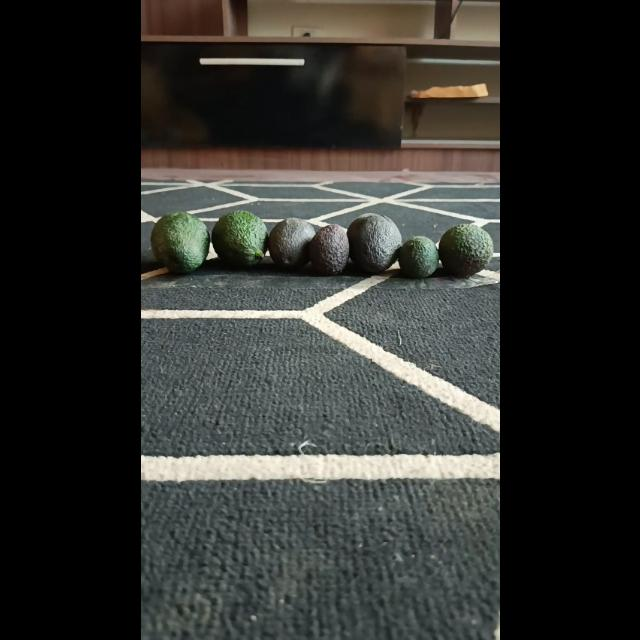Primera: (149, 211, 209, 273), (210, 210, 268, 268), (346, 212, 402, 272)
Segunda: (438, 223, 494, 277), (267, 218, 315, 268)
Tercera: (306, 225, 348, 275), (397, 236, 438, 278)
